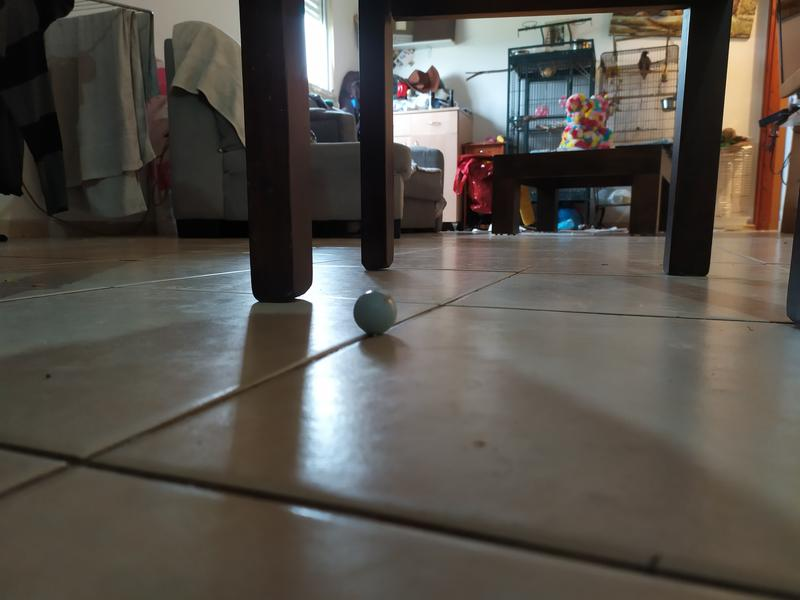Warning: (352, 287, 400, 337)
